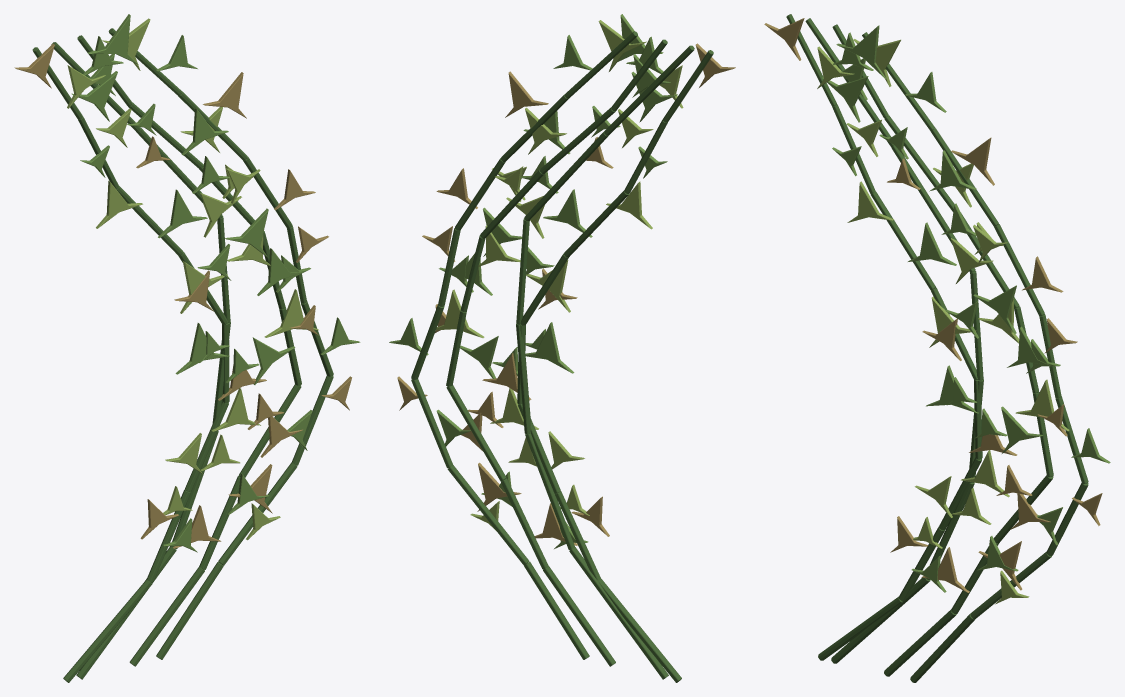
The model's file is runtime.glb.
3 renders of one model, left to right at view 1: azimuth 30°, elevation 25°; view 2: azimuth 150°, elevation 25°; view 3: azimuth 330°, elevation 25°, orthographic.
Visible parts, largest first — view 1: falkenwacht-wall-ivy-v04_nocol; view 2: falkenwacht-wall-ivy-v04_nocol; view 3: falkenwacht-wall-ivy-v04_nocol.
Boxes of the visible parts, x1,y1,x2,y2 form: falkenwacht-wall-ivy-v04_nocol: (14, 14, 360, 682); falkenwacht-wall-ivy-v04_nocol: (389, 14, 735, 682); falkenwacht-wall-ivy-v04_nocol: (764, 14, 1110, 682).
Bounding box in the file's own units: 2.29 × 4.14 × 0.0824.
